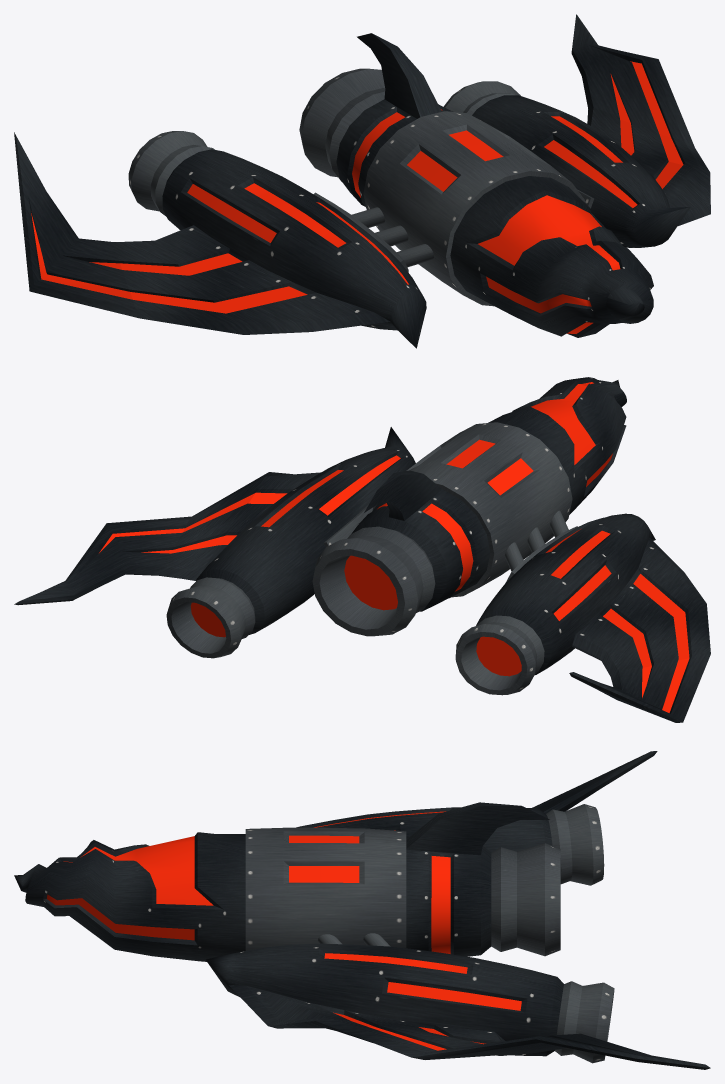
File: Bloaty_60.fbx
3 renders of one model, top to bottom at view 1: azimuth 30°, elevation 25°; view 2: azimuth 150°, elevation 25°; view 3: azimuth 270°, elevation 25°, orthographic. The views are drawn at different scales.
Visible parts, largest first — view 1: Boaty_60; view 2: Boaty_60; view 3: Boaty_60.
Part boxes in pixels (<box>): Boaty_60: <box>14,14,710,348</box>; Boaty_60: <box>14,377,710,722</box>; Boaty_60: <box>14,751,710,1069</box>.
Bounding box in the file's own units: 44.43 × 12.83 × 43.88.
